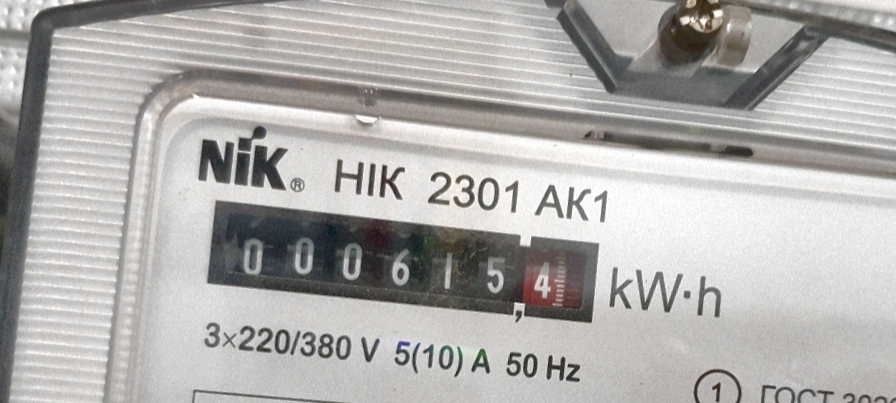0: (335, 238, 365, 283), (236, 233, 266, 277), (288, 233, 316, 275)
1: (437, 248, 456, 291)
4: (529, 257, 553, 299)
5: (479, 251, 508, 296)
6: (384, 243, 413, 287)
screen: (188, 179, 614, 346)
